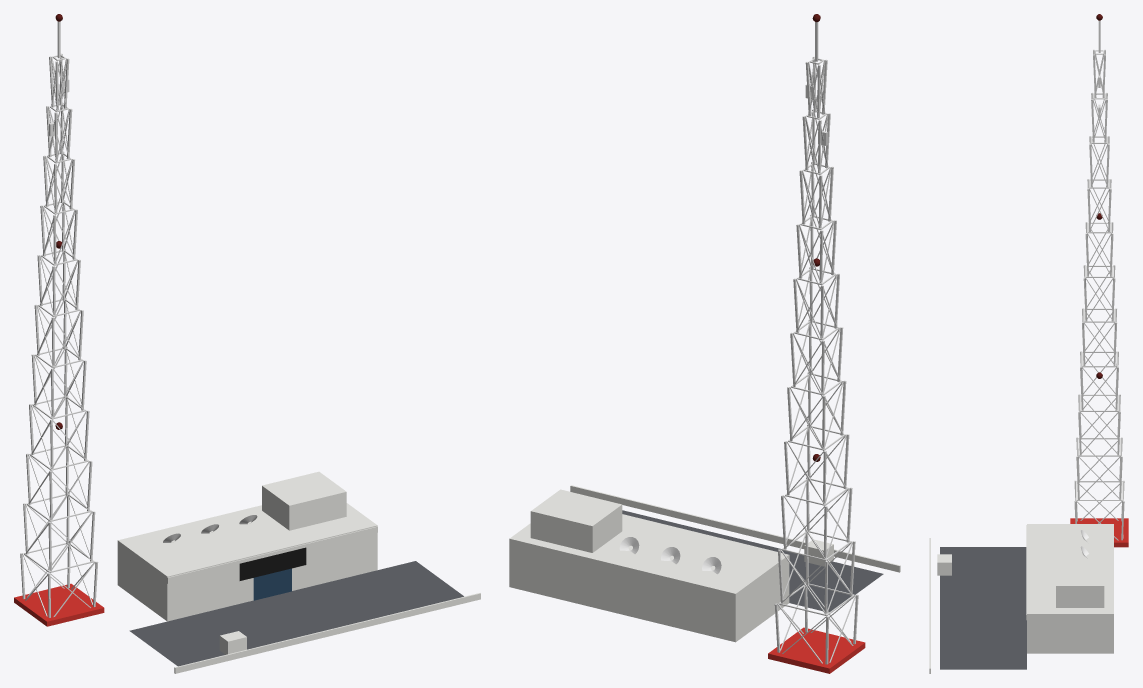
File: cocody-rti.glb
3 views of the same model, side by side, from view 1: azimuth 30°, elevation 25°; view 2: azimuth 150°, elevation 25°; view 3: azimuth 270°, elevation 25° (orthographic). The views are drawn at different scales.
Bounding box in the file's own units: 74 × 119 × 41.15.
